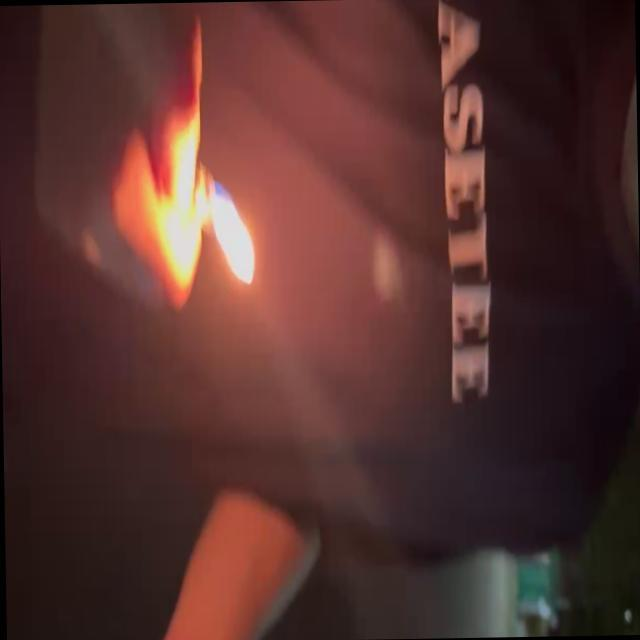Fire: (206, 168, 258, 289)
